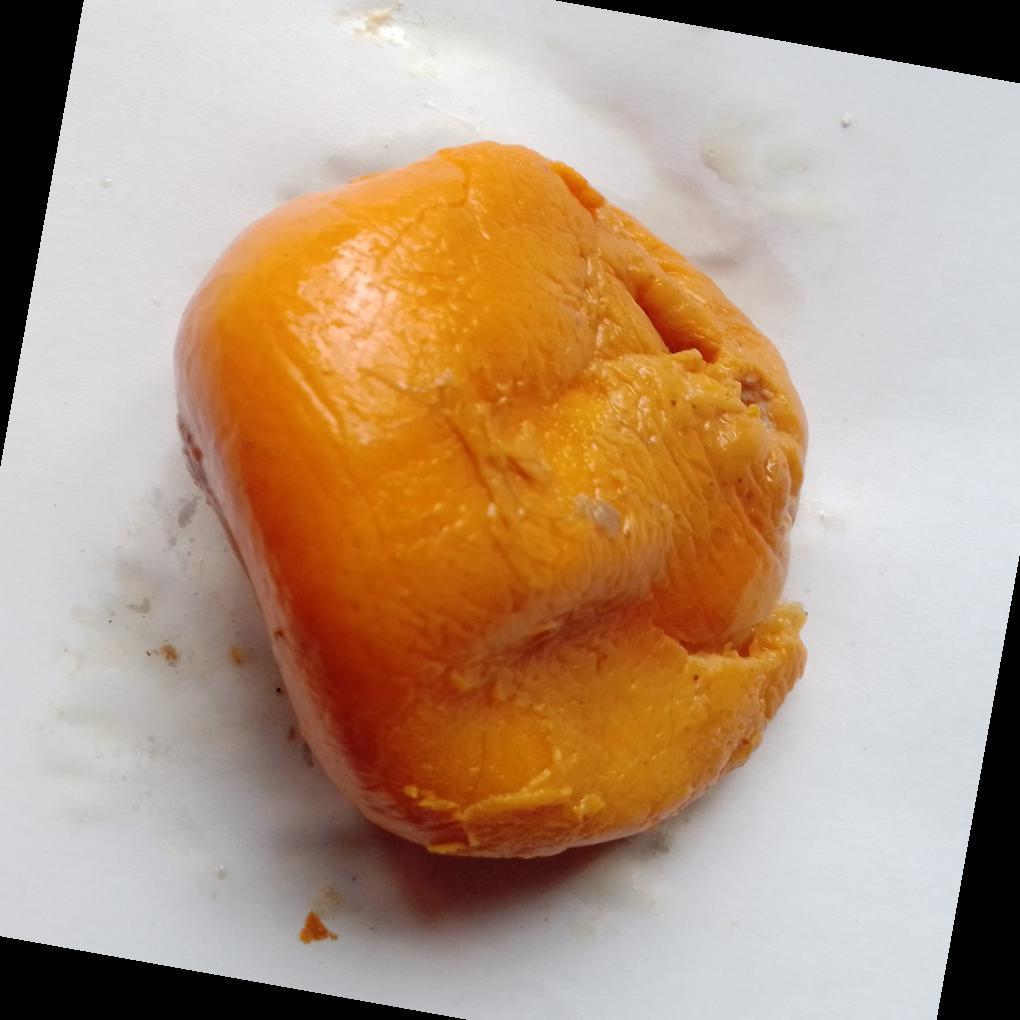FreshOrange: (172, 142, 810, 865)
